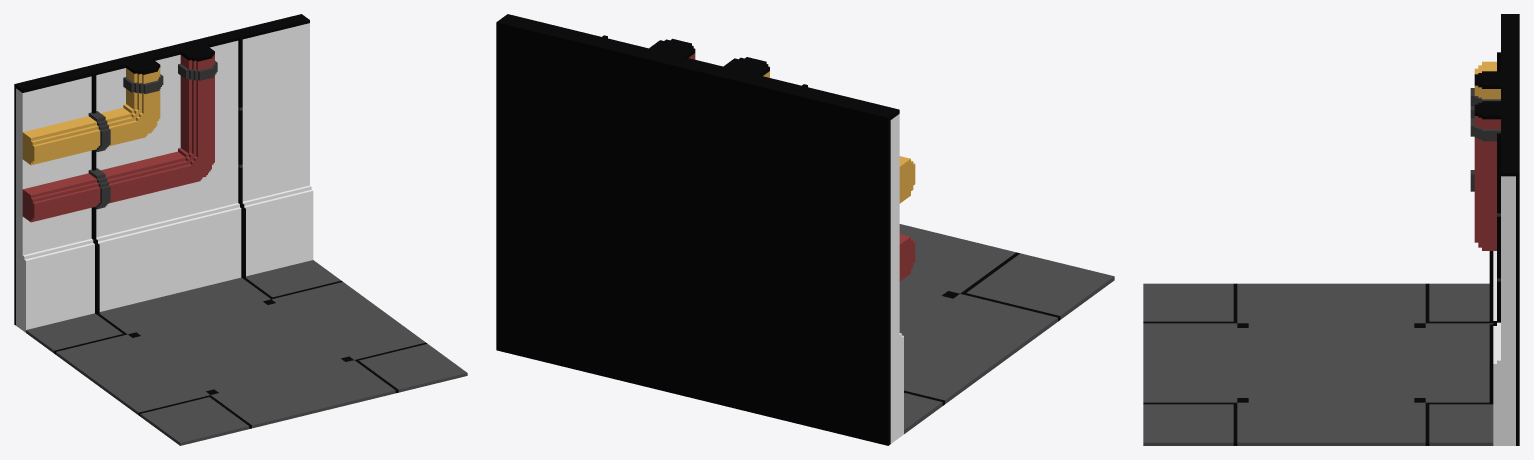
Rendered from Wall Pipes 2 - 3.obj.
3 renders of one model, left to right at view 1: azimuth 30°, elevation 25°; view 2: azimuth 150°, elevation 25°; view 3: azimuth 270°, elevation 25°, orthographic. The views are drawn at different scales.
Size of the model in its own units: 10 by 8 by 10.
